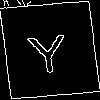Y: (25, 25, 71, 75)
